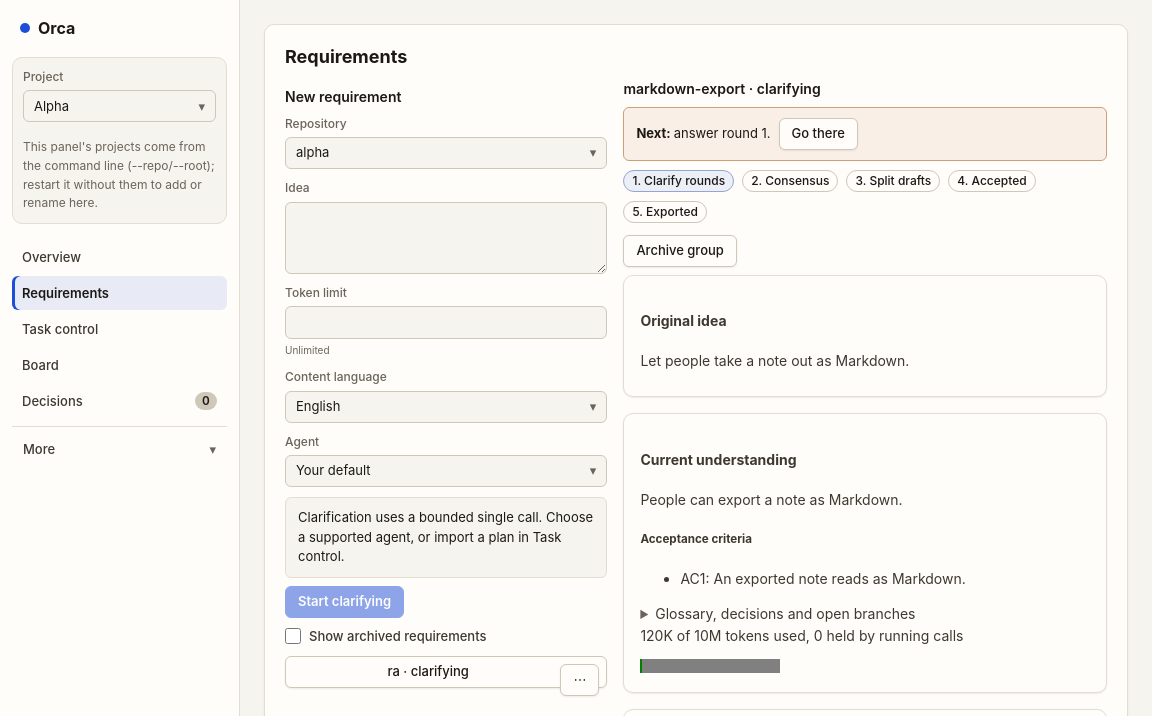
Test case: archiving closes the detail open on that group (tester #63) › closes the open requirement's detail and leaves #requirements once its archive succeeded
The width and height of the screenshot is (1152, 716).
Click the button "Archive group" at (680, 251), box [623,235,737,267]
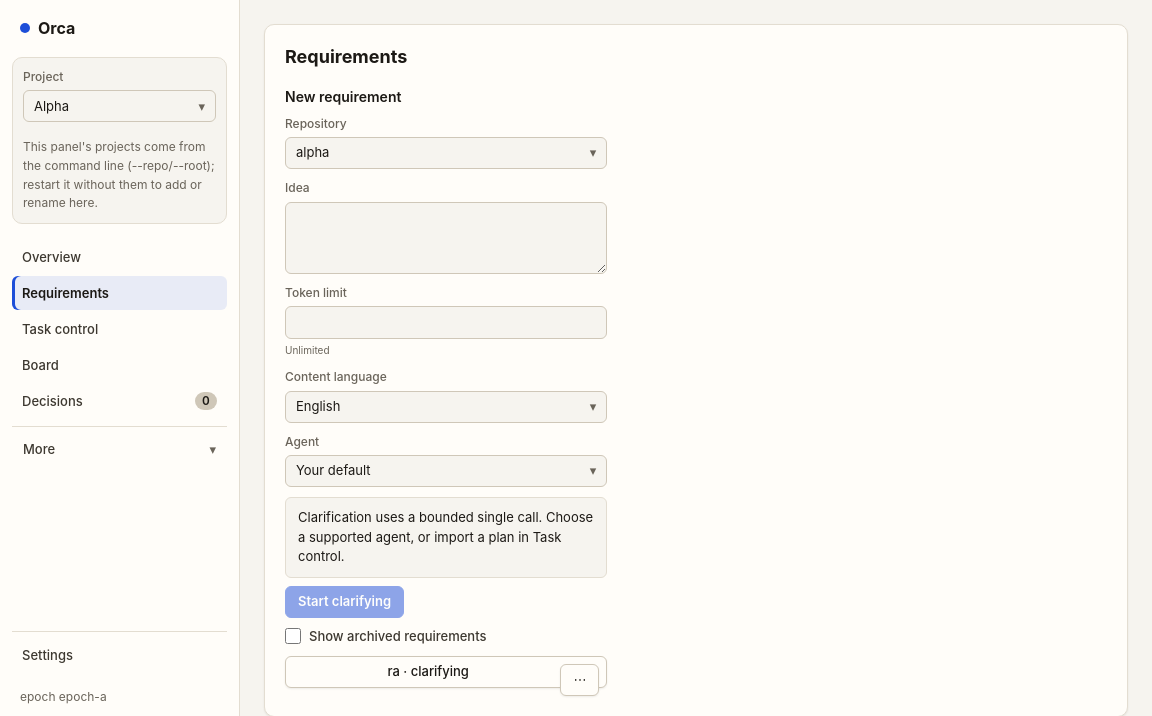
Now the heading "markdown-export" is gone
